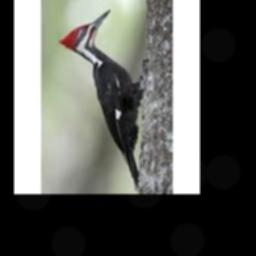Woodpecker: (57, 9, 144, 190)
